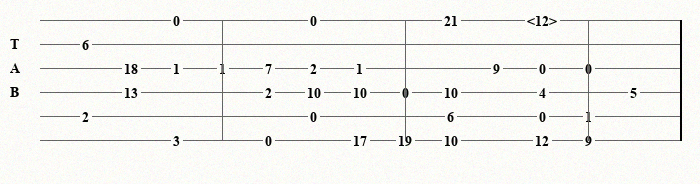0: (173, 13, 184, 27), (265, 133, 276, 147), (310, 109, 321, 123), (310, 13, 321, 27), (402, 85, 413, 99), (539, 109, 550, 123), (539, 61, 550, 75), (585, 61, 596, 75)
1: (173, 61, 184, 75), (219, 61, 230, 75), (356, 61, 367, 75), (585, 109, 596, 123)
10: (307, 85, 325, 99), (353, 85, 371, 99), (444, 85, 462, 99), (444, 133, 462, 147)
12: (535, 133, 553, 147)
13: (124, 85, 142, 99)
17: (353, 133, 371, 147)
18: (124, 61, 142, 75)
19: (398, 133, 416, 147)
2: (82, 109, 93, 123), (265, 85, 276, 99), (310, 61, 321, 75)
21: (444, 13, 462, 27)
3: (173, 133, 184, 147)
4: (539, 85, 550, 99)
5: (630, 85, 641, 99)
6: (82, 37, 93, 51), (447, 109, 458, 123)
7: (265, 61, 276, 75)
9: (493, 61, 504, 75), (585, 133, 596, 147)
harmonic: (527, 13, 561, 27)
